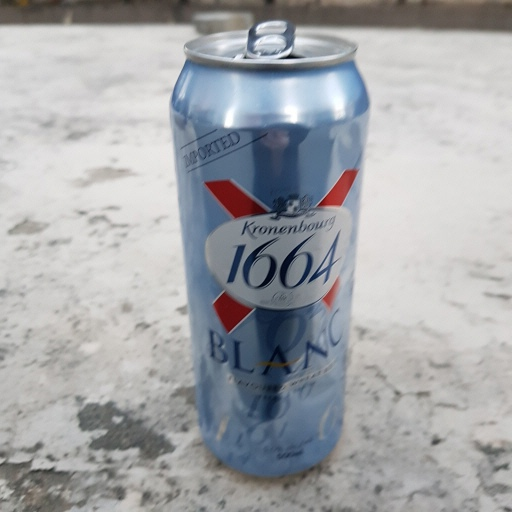Metal_0: (165, 17, 372, 481)
